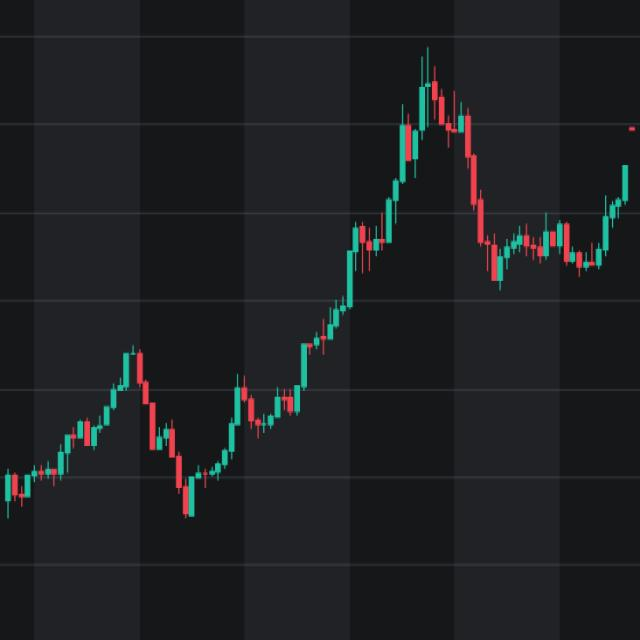Resistance-Emerging: (399, 45, 638, 302)
Resistance-breakout: (63, 112, 411, 538)
